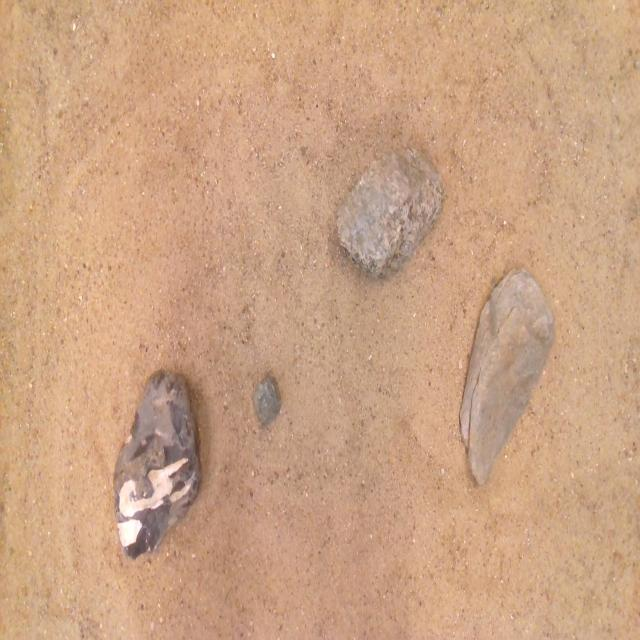rock: (460, 270, 554, 484), (114, 372, 200, 556), (337, 149, 444, 275), (253, 376, 280, 425)
